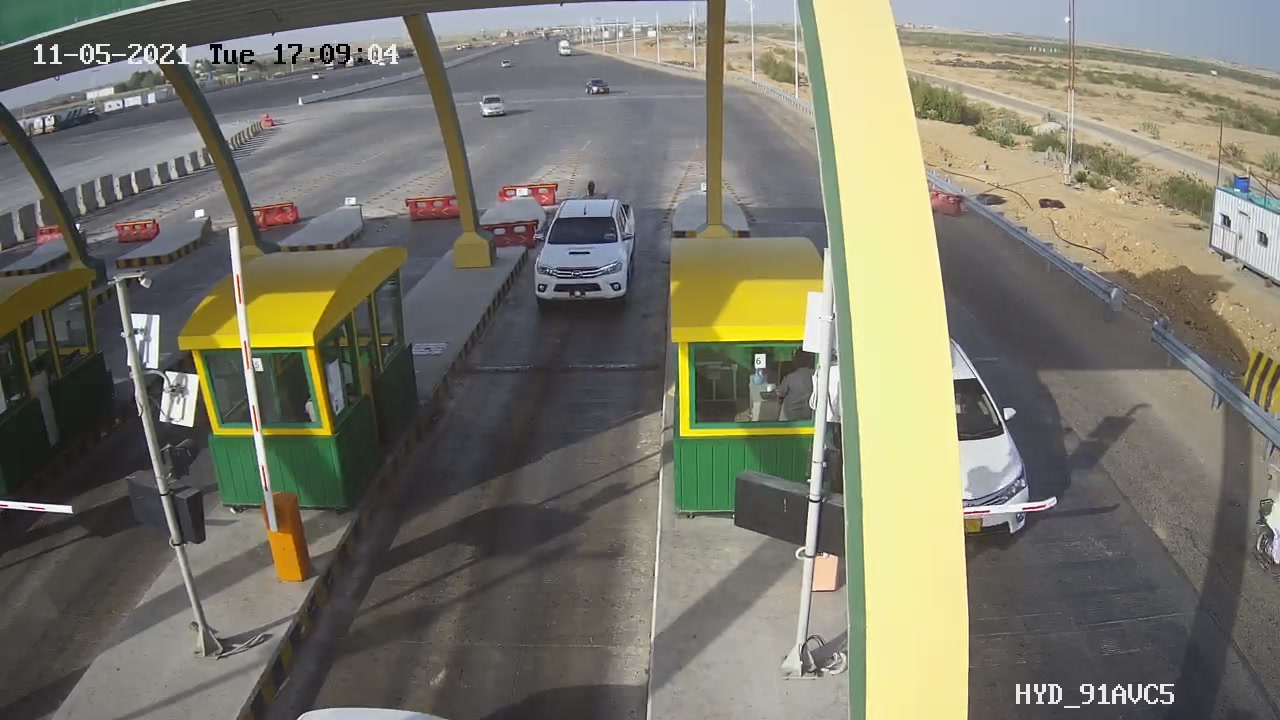F1: (513, 169, 666, 340)
